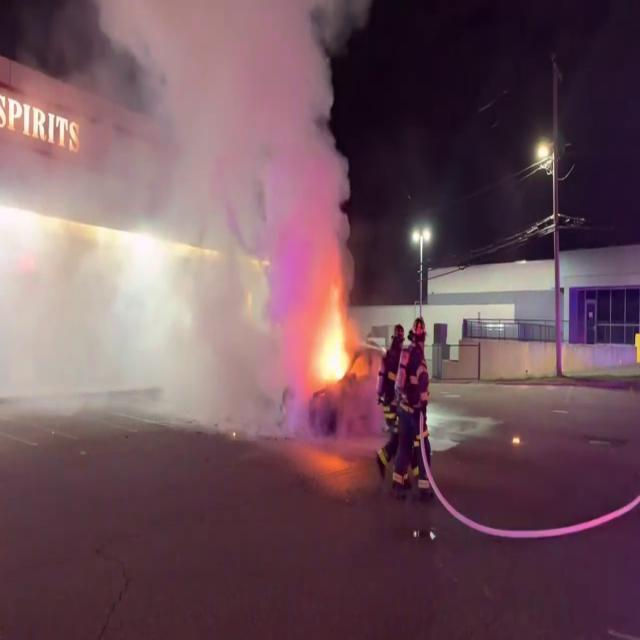Fire: (306, 279, 361, 394)
Smoke: (0, 0, 362, 447)
